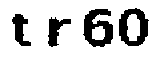0: (120, 5, 150, 51)
6: (80, 7, 115, 48)
r: (43, 16, 73, 48)
t: (7, 12, 35, 51)
